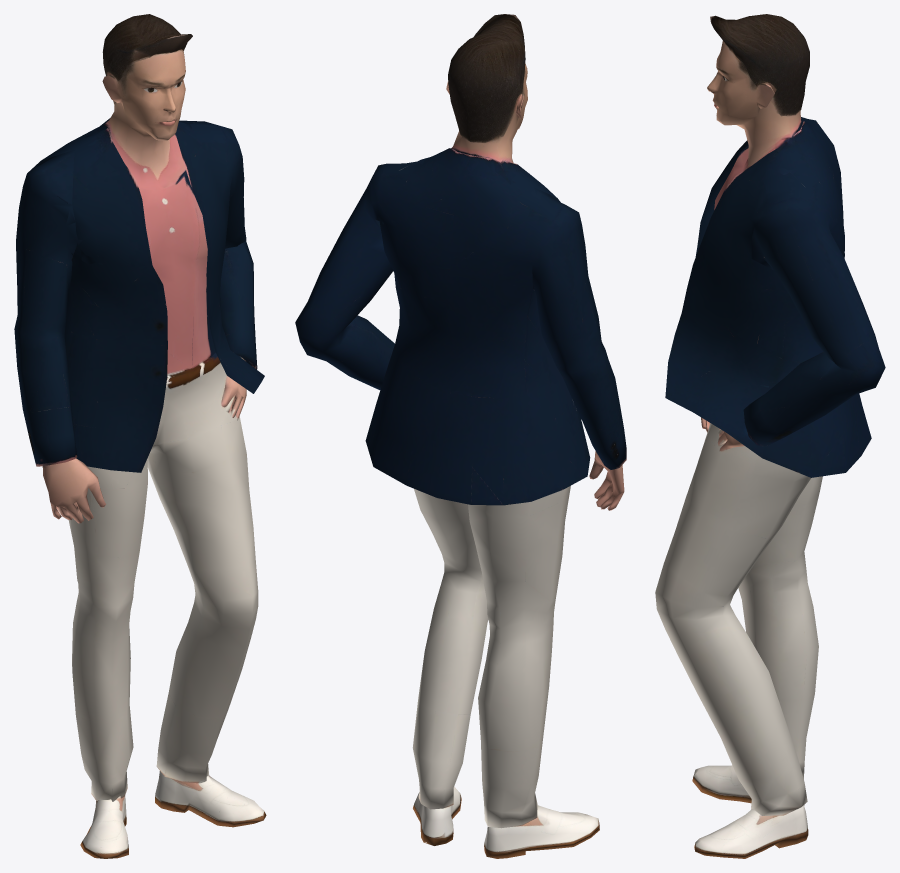
Rendered from addin.glb.
3 renders of one model, left to right at view 1: azimuth 30°, elevation 25°; view 2: azimuth 150°, elevation 25°; view 3: azimuth 270°, elevation 25°, orthographic.
Size of the model in its own units: 0.6961 by 2 by 0.5204.
1 material, 1 textured.
